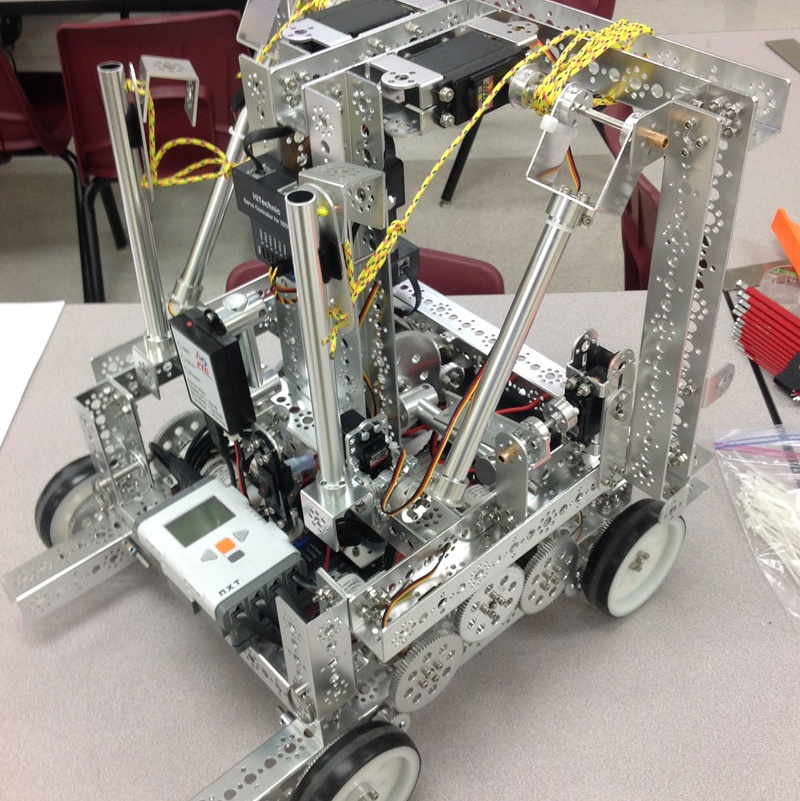robot: (0, 0, 798, 801)
